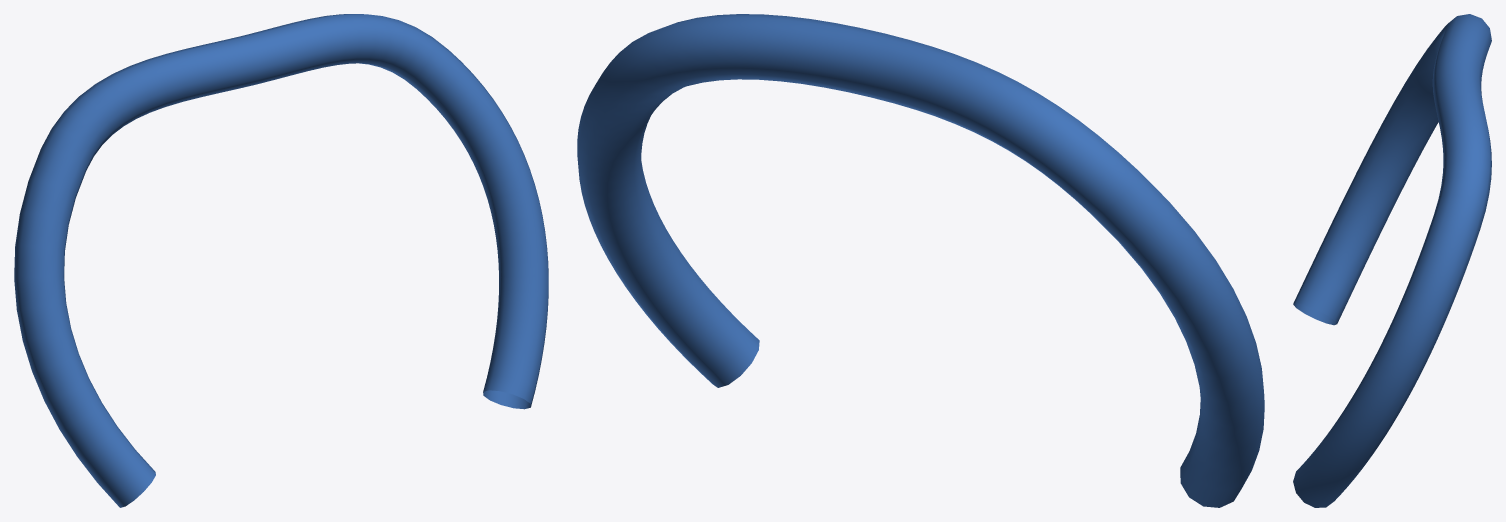
The picture shows the model from 3 angles, left to right: view 1: azimuth 30°, elevation 25°; view 2: azimuth 150°, elevation 25°; view 3: azimuth 270°, elevation 25°; orthographic projection. The views are drawn at different scales.
Visible parts, largest first — view 1: 后海绵间窦; view 2: 后海绵间窦; view 3: 后海绵间窦.
Part boxes in pixels (x1=…): 后海绵间窦: x1=14, y1=14, x2=548, y2=507; 后海绵间窦: x1=577, y1=14, x2=1264, y2=507; 后海绵间窦: x1=1293, y1=14, x2=1491, y2=507.
Size of the model in its own units: 0.0172 by 0.0118 by 0.00601.
